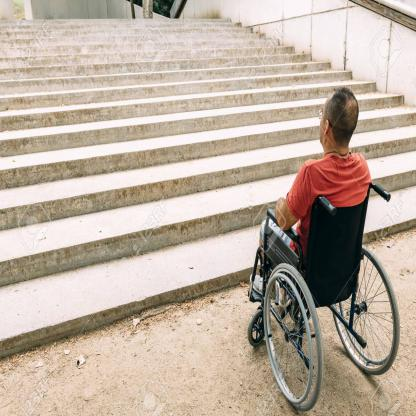wheelchair: (243, 89, 404, 406)
